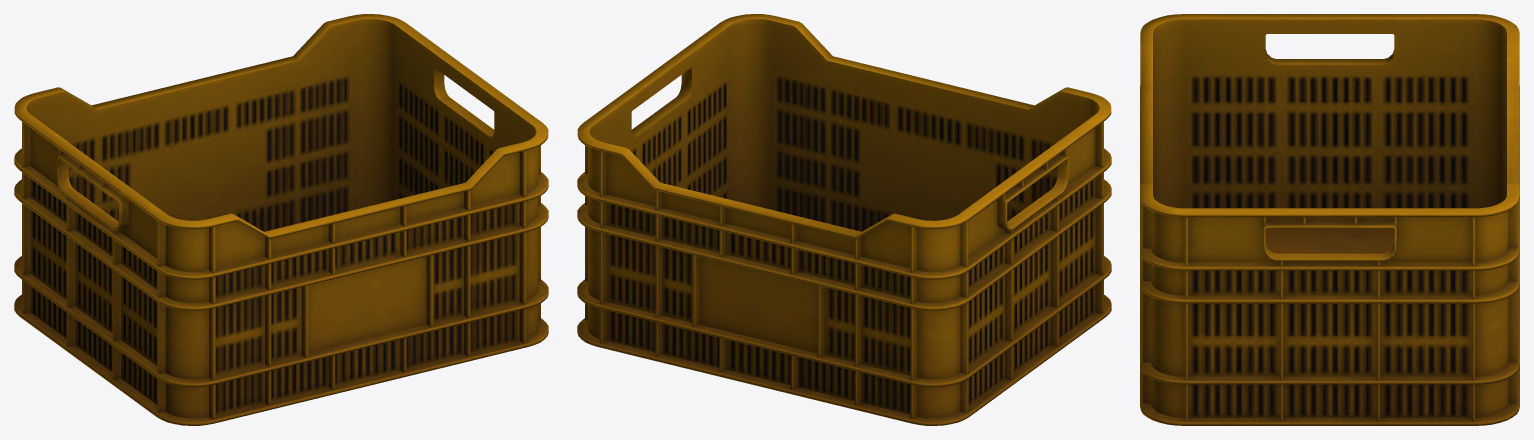
Rendered from plastic_crate_02.glb.
3 renders of one model, left to right at view 1: azimuth 30°, elevation 25°; view 2: azimuth 150°, elevation 25°; view 3: azimuth 270°, elevation 25°, orthographic. The views are drawn at different scales.
Visible parts, largest first — view 1: plastic_crate_02; view 2: plastic_crate_02; view 3: plastic_crate_02.
Boxes of the visible parts, x1,y1,x2,y2 form: plastic_crate_02: [14, 14, 548, 425]; plastic_crate_02: [577, 14, 1111, 425]; plastic_crate_02: [1140, 14, 1519, 425].
Bounding box in the file's own units: 0.5055 × 0.2541 × 0.4055.
1 material, 1 textured.
